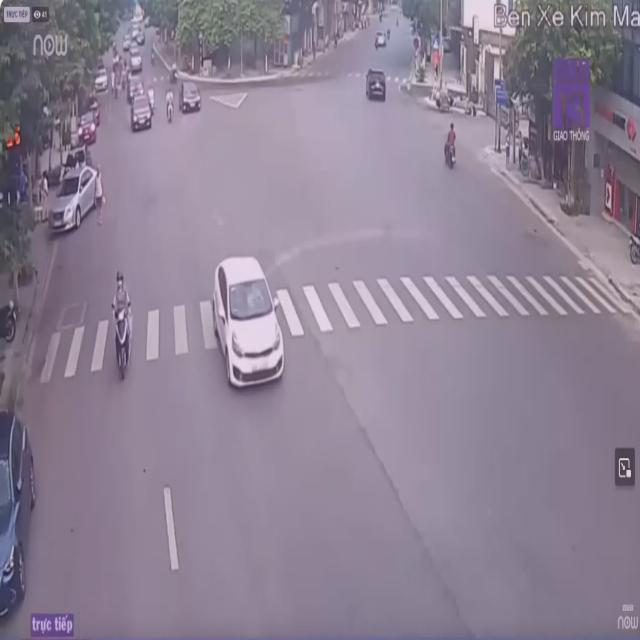car: (214, 251, 289, 390), (1, 409, 38, 626), (49, 167, 95, 227), (129, 89, 155, 137)
motorbike: (109, 271, 137, 369), (444, 121, 458, 170)
